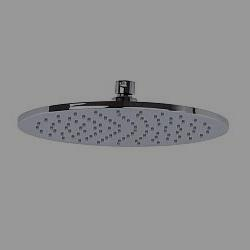Ducha: (12, 70, 238, 153)
